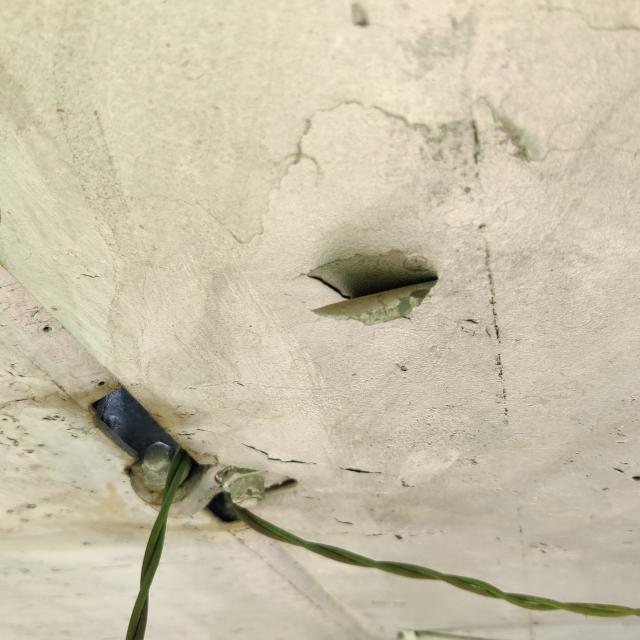paint-off: (292, 232, 452, 346)
